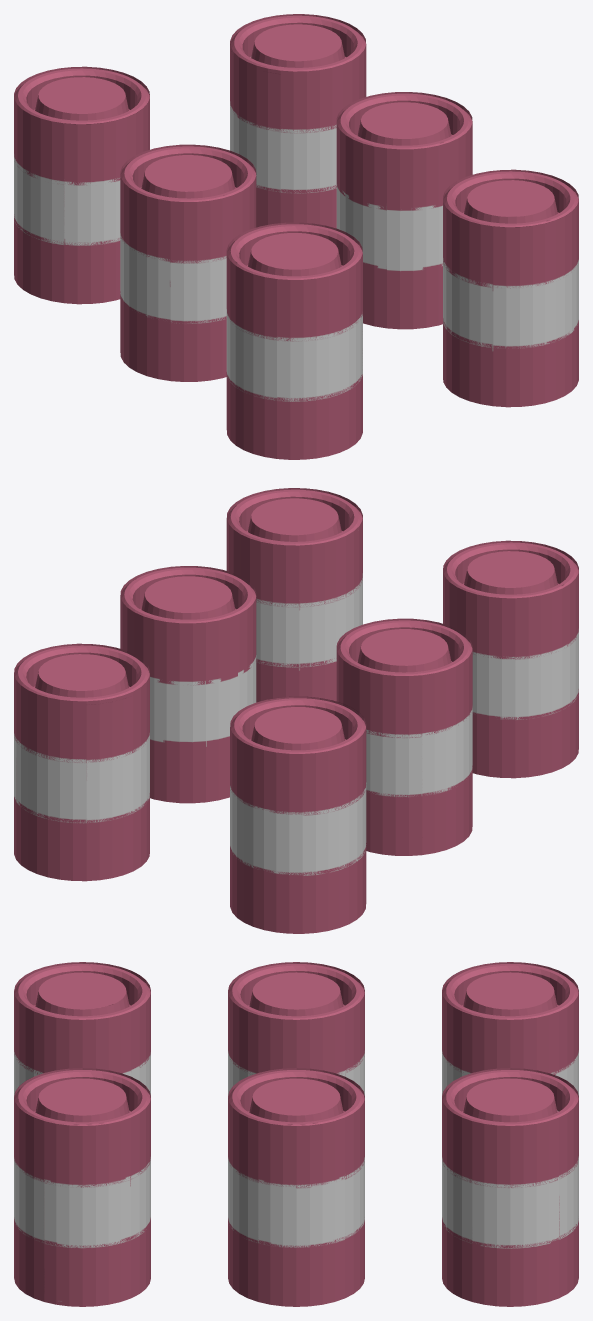
The model's file is tanques.fbx.
3 views of the same model, one above another, from view 1: azimuth 30°, elevation 25°; view 2: azimuth 150°, elevation 25°; view 3: azimuth 270°, elevation 25° (orthographic).
Visible parts, largest first — view 1: Cylinder; view 2: Cylinder; view 3: Cylinder.
Boxes of the visible parts, <box> form: Cylinder: <box>14,14,578,459</box>; Cylinder: <box>14,488,578,933</box>; Cylinder: <box>14,962,578,1306</box>.
Size of the model in its own units: 566 by 291 by 824.
1 material, 1 textured.
